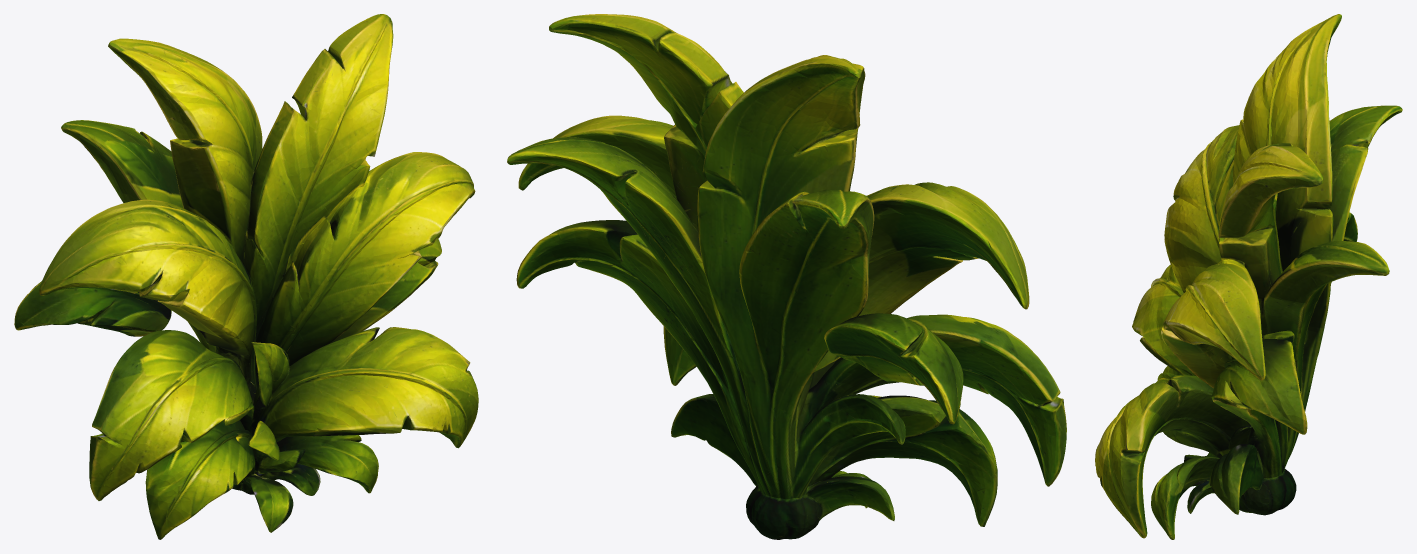
File: leafy_plant.fbx
The picture shows the model from 3 angles, left to right: view 1: azimuth 30°, elevation 25°; view 2: azimuth 150°, elevation 25°; view 3: azimuth 270°, elevation 25°; orthographic projection. The views are drawn at different scales.
Parts seen in each view (by area): view 1: world; view 2: world; view 3: world.
Boxes of the visible parts, x1,y1,x2,y2 form: world: [14, 14, 478, 539]; world: [507, 14, 1066, 539]; world: [1095, 14, 1402, 539].
Size of the model in its own units: 199 by 198 by 122.
Materials: 1 (1 with a texture image).
